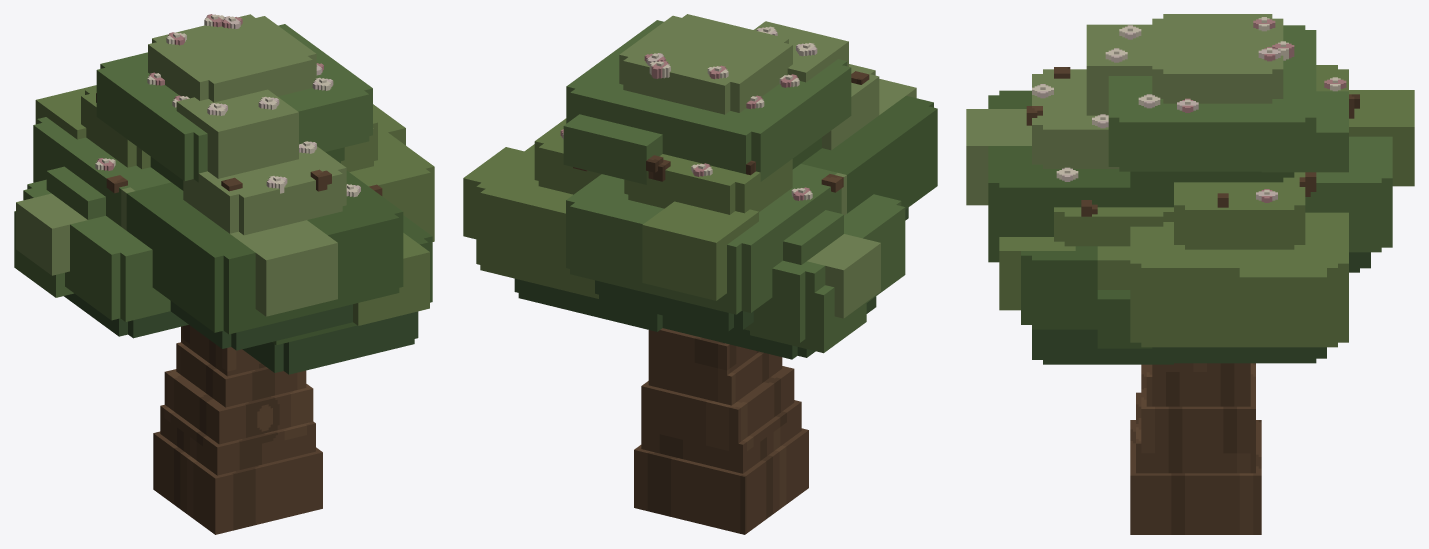
File: apple_mature_spring_3.glb
The picture shows the model from 3 angles, left to right: view 1: azimuth 30°, elevation 25°; view 2: azimuth 150°, elevation 25°; view 3: azimuth 270°, elevation 25°; orthographic projection. The views are drawn at different scales.
Parts seen in each view (by area): view 1: VoxelVisual; view 2: VoxelVisual; view 3: VoxelVisual.
Boxes of the visible parts, <box> form: VoxelVisual: <box>14,14,434,534</box>; VoxelVisual: <box>463,14,937,534</box>; VoxelVisual: <box>966,14,1414,534</box>.
Size of what is drawn, in the model's own units: 10 by 11.94 by 10.25.
